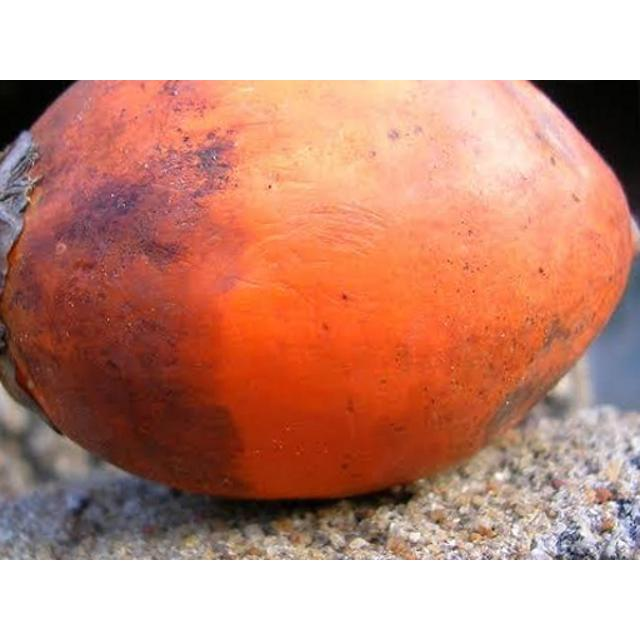good: (0, 80, 639, 503)
